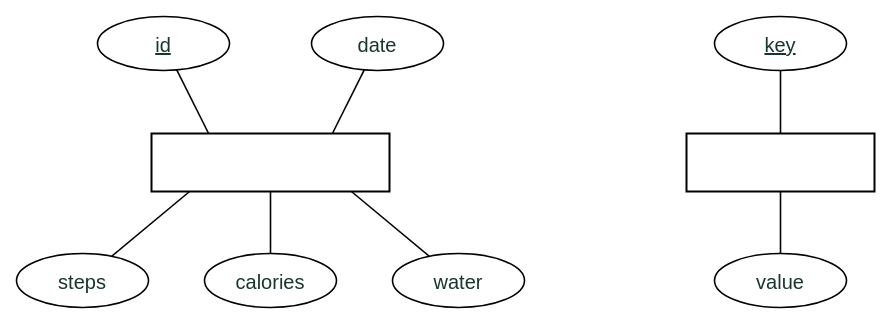
Some shapes in this 891 by 324 pixel diagram are drawn without their labels. The centre of each missing label's shape, as x and y in pixels:
"HEALTH_RECORD" belongs at pixel 270 162.
"SETTING" belongs at pixel 780 162.
